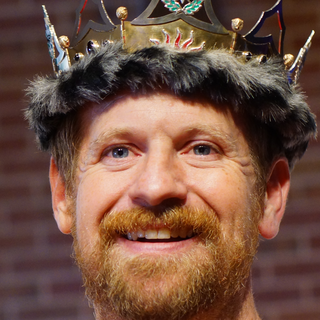eye: (178, 139, 224, 163), (99, 141, 144, 165)
